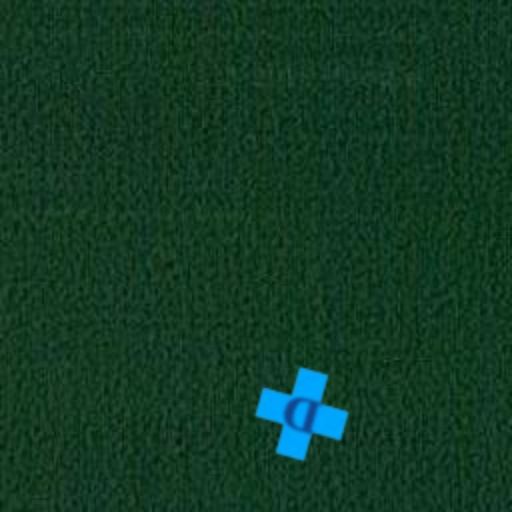cross: (246, 358, 358, 470)
